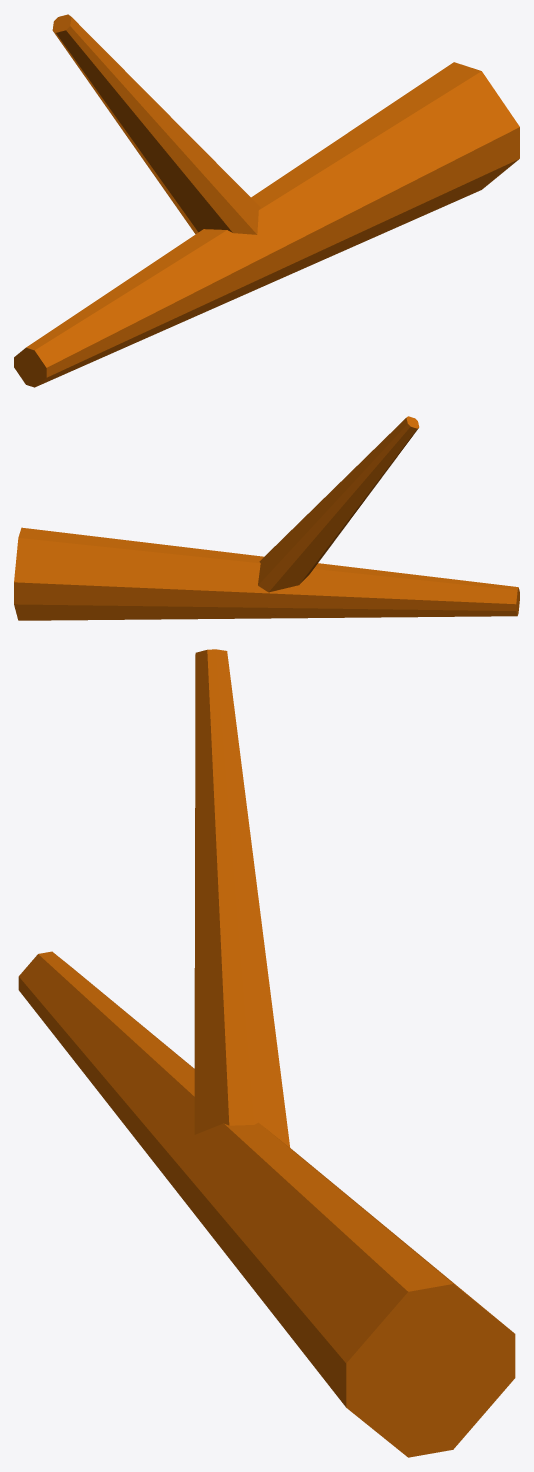
File: Branch.fbx
3 views of the same model, one above another, from view 1: azimuth 30°, elevation 25°; view 2: azimuth 150°, elevation 25°; view 3: azimuth 270°, elevation 25° (orthographic). The views are drawn at different scales.
Visible parts, largest first — view 1: Cube.186; view 2: Cube.186; view 3: Cube.186.
Boxes of the visible parts, left/top/right/bottom form: Cube.186: left=14, top=14, right=519, bottom=387; Cube.186: left=14, top=416, right=519, bottom=620; Cube.186: left=18, top=649, right=515, bottom=1457.
Size of the model in its own units: 2.33 by 1.27 by 1.19.
1 material, 1 textured.
